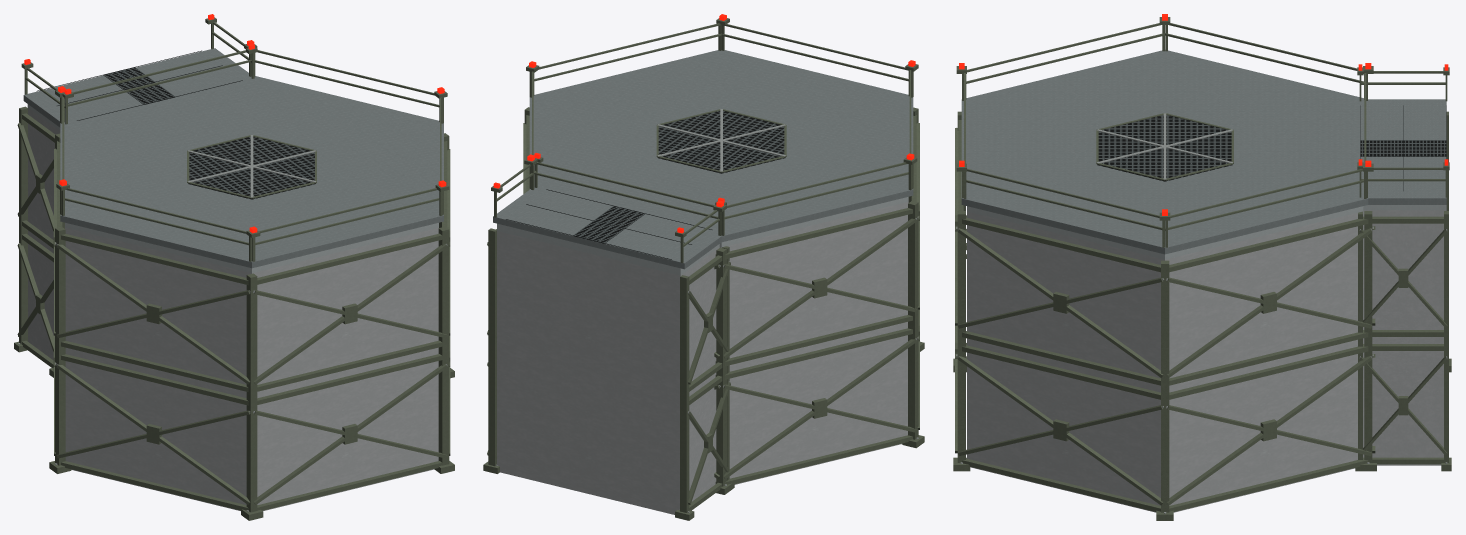
The model's file is pier.glb.
3 views of the same model, side by side, from view 1: azimuth 30°, elevation 25°; view 2: azimuth 150°, elevation 25°; view 3: azimuth 270°, elevation 25° (orthographic). The views are drawn at different scales.
Visible parts, largest first — view 1: pier-lod0-roof0, pier-lod0-floor0, pier-lod0-base0, pier-lod0-roof0-link-n, pier-lod0-floor0-link-n, pier-lod0-base0-link-n; view 2: pier-lod0-roof0, pier-lod0-floor0-link-n, pier-lod0-base0-link-n, pier-lod0-floor0, pier-lod0-base0, pier-lod0-roof0-link-n; view 3: pier-lod0-roof0, pier-lod0-floor0, pier-lod0-base0, pier-lod0-floor0-link-n, pier-lod0-base0-link-n, pier-lod0-roof0-link-n.
Boxes of the visible parts, left/top/right/bottom form: pier-lod0-roof0: left=55, top=40, right=449, bottom=273; pier-lod0-floor0: left=53, top=133, right=450, bottom=397; pier-lod0-base0: left=49, top=335, right=454, bottom=520; pier-lod0-roof0-link-n: left=21, top=14, right=257, bottom=130; pier-lod0-floor0-link-n: left=17, top=106, right=64, bottom=248; pier-lod0-base0-link-n: left=14, top=229, right=53, bottom=367; pier-lod0-roof0: left=524, top=14, right=918, bottom=247; pier-lod0-floor0-link-n: left=487, top=228, right=730, bottom=398; pier-lod0-base0-link-n: left=483, top=350, right=734, bottom=520; pier-lod0-floor0: left=523, top=107, right=919, bottom=372; pier-lod0-base0: left=714, top=309, right=924, bottom=494; pier-lod0-roof0-link-n: left=491, top=153, right=726, bottom=275; pier-lod0-roof0: left=956, top=14, right=1373, bottom=259; pier-lod0-floor0: left=955, top=111, right=1375, bottom=391; pier-lod0-base0: left=953, top=243, right=1376, bottom=520; pier-lod0-floor0-link-n: left=1358, top=111, right=1448, bottom=341; pier-lod0-base0-link-n: left=1355, top=338, right=1451, bottom=471; pier-lod0-roof0-link-n: left=1357, top=64, right=1449, bottom=210.
Size of what is drawn, in the model's own units: 62.24 by 43.07 by 63.77.
Materials: 8 (8 with a texture image).
